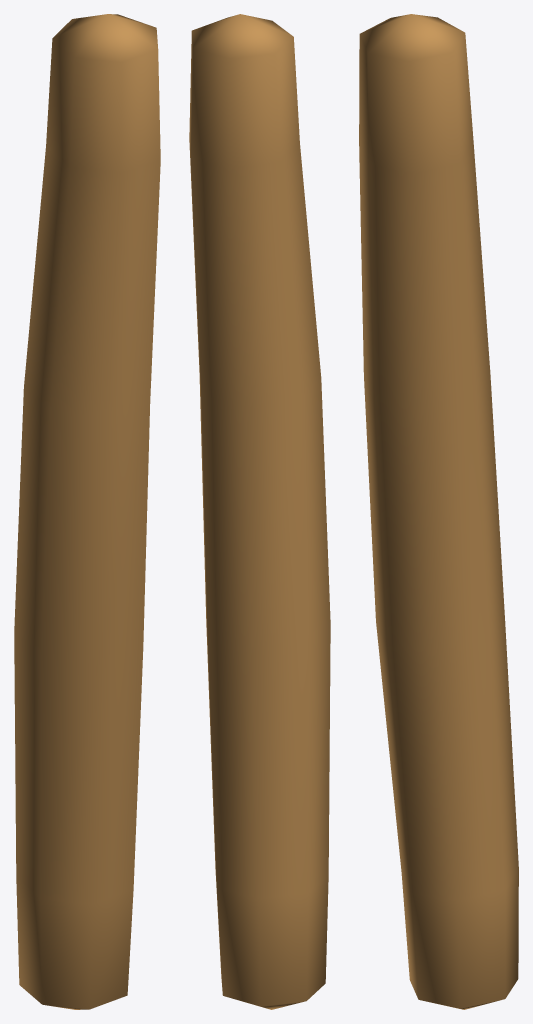
Rendered from tarsus2_T2_right_leg.obj.
The picture shows the model from 3 angles, left to right: view 1: azimuth 30°, elevation 25°; view 2: azimuth 210°, elevation 25°; view 3: azimuth 270°, elevation 25°; orthographic projection. The views are drawn at different scales.
Bounding box in the file's own units: 0.00277 × 0.0228 × 0.00331.
